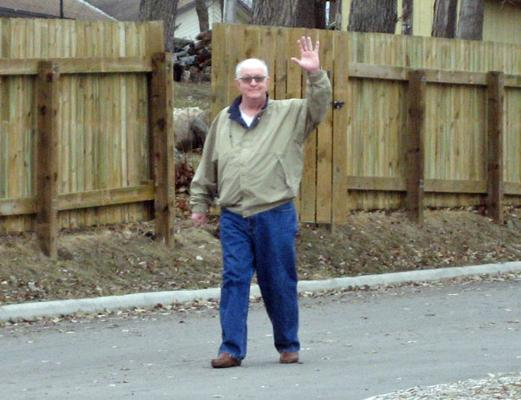person: (191, 37, 330, 368)
